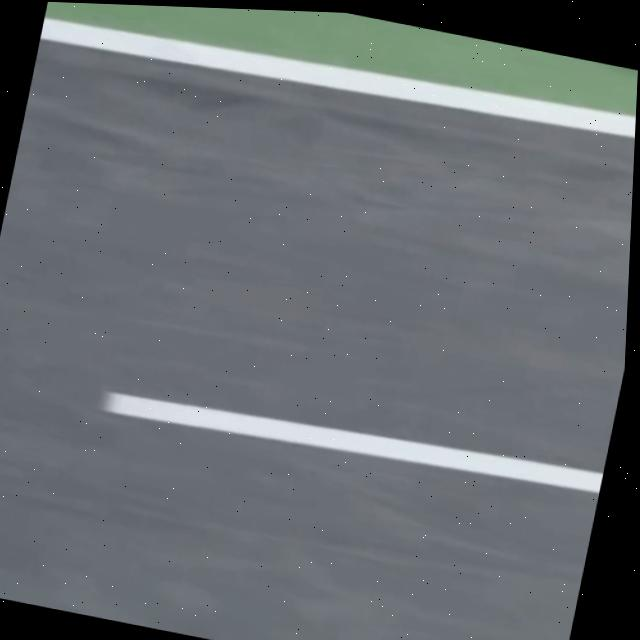center: (104, 392, 603, 494)
right: (39, 19, 636, 139)
